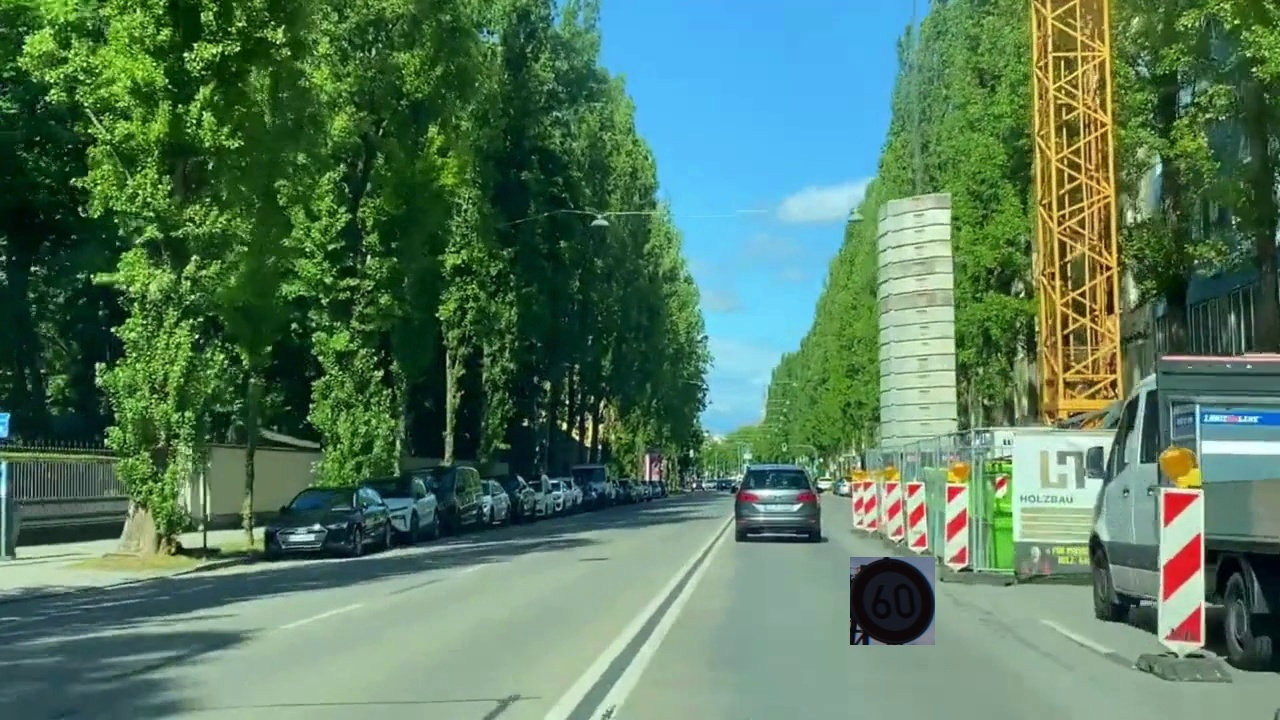Speed 60: (850, 557, 935, 645)
